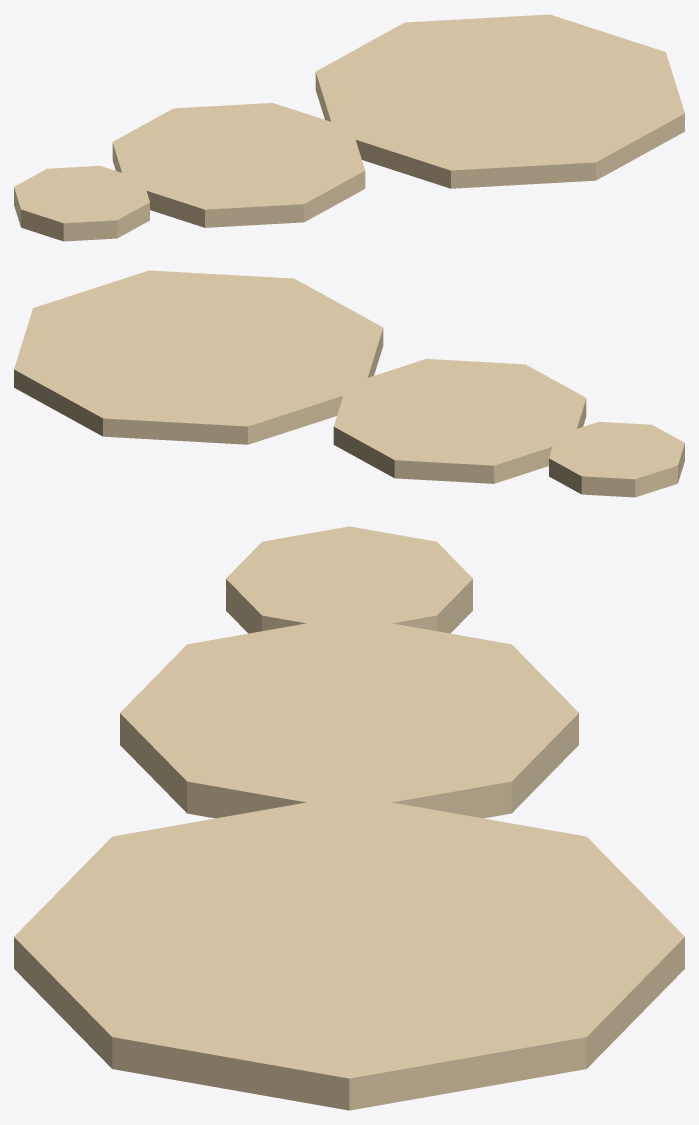
The model's file is sample-model.gltf.
3 views of the same model, one above another, from view 1: azimuth 30°, elevation 25°; view 2: azimuth 150°, elevation 25°; view 3: azimuth 270°, elevation 25° (orthographic). The views are drawn at different scales.
Parts seen in each view (by area): view 1: driven, idler, driver; view 2: driven, idler, driver; view 3: driven, idler, driver.
Boxes of the visible parts, <box> form: driven: <box>315,14,684,188</box>; idler: <box>112,103,365,227</box>; driver: <box>14,166,149,241</box>; driven: <box>14,270,383,444</box>; idler: <box>333,359,586,483</box>; driver: <box>549,422,684,497</box>; driven: <box>14,795,684,1110</box>; idler: <box>120,616,578,818</box>; driver: <box>226,526,472,633</box>.
Size of the model in its own units: 74 by 2 by 38.
